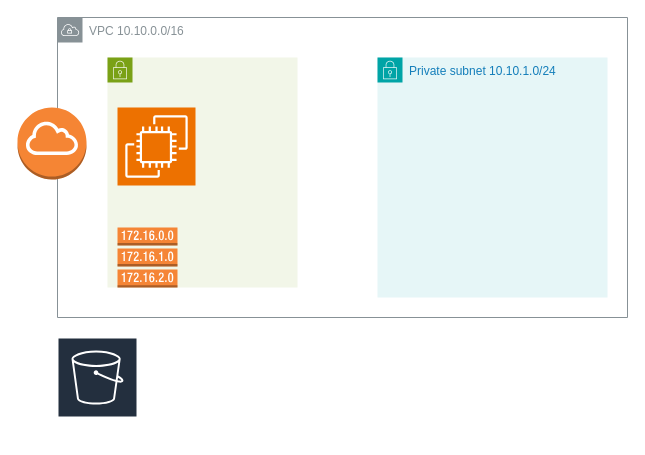
This 645x455 diagram has some shape labels left out. The box of each missing label's shape, as (x1, y1, x2, y2) in pixels:
Amazon S3: (56, 336, 138, 438)
Public subnet 10.10.0.0/24: (106, 56, 298, 288)
